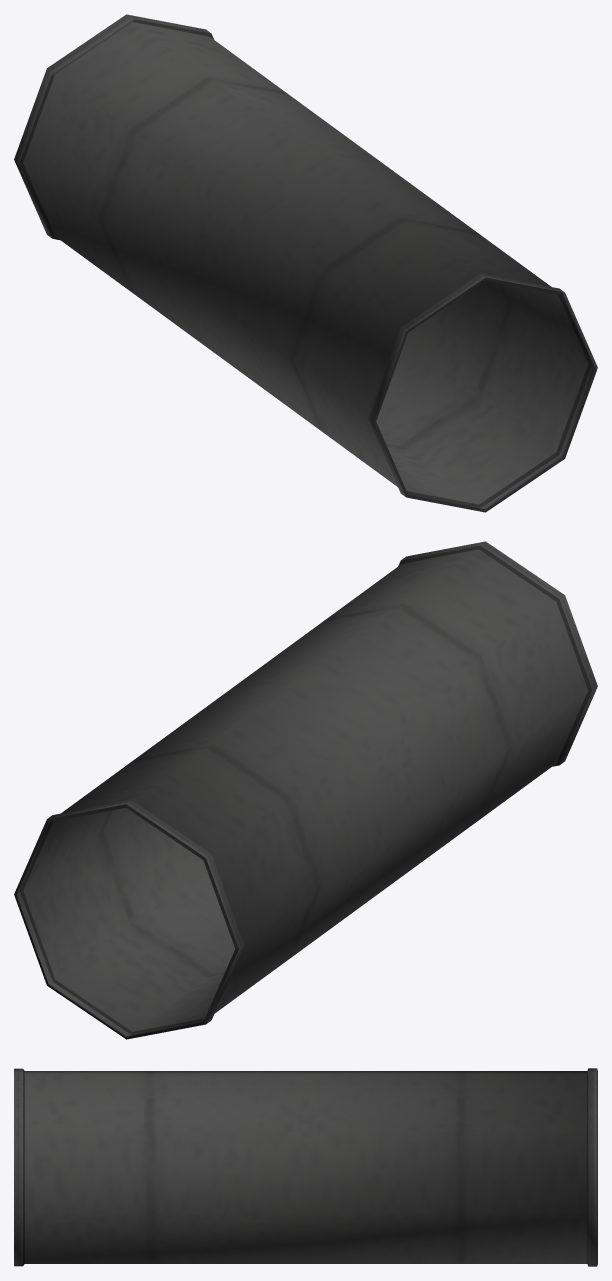
Rendered from PipeStraight.fbx.
The picture shows the model from 3 angles, top to bottom: view 1: azimuth 30°, elevation 25°; view 2: azimuth 150°, elevation 25°; view 3: azimuth 270°, elevation 25°; orthographic projection. The views are drawn at different scales.
Parts seen in each view (by area): view 1: PipeStraight; view 2: PipeStraight; view 3: PipeStraight.
Part boxes in pixels (x1,y1,x2,y2): PipeStraight: (14,14,597,512); PipeStraight: (14,541,597,1039); PipeStraight: (14,1068,597,1266).
Size of the model in its own units: 39.51 by 39.51 by 109.
